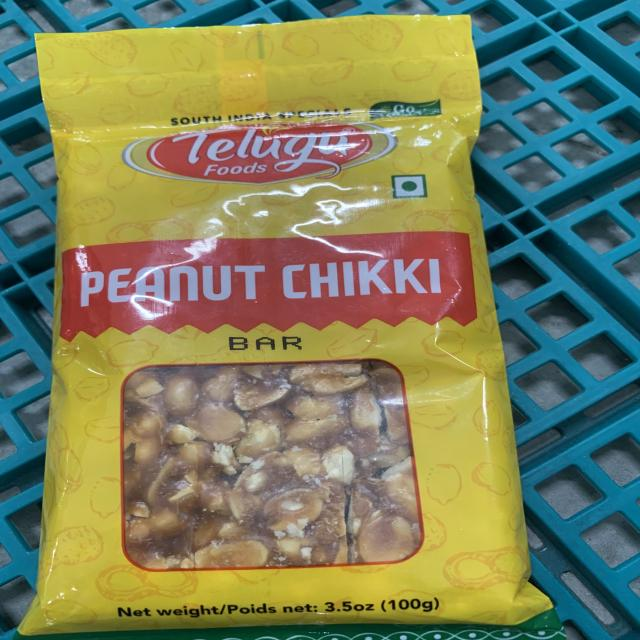object_name: (23, 34, 531, 624)
